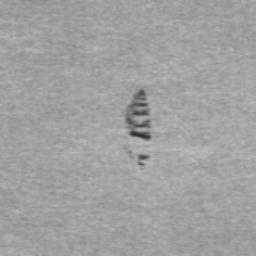Secondary rust skin: (124, 88, 153, 141), (137, 154, 150, 166)
